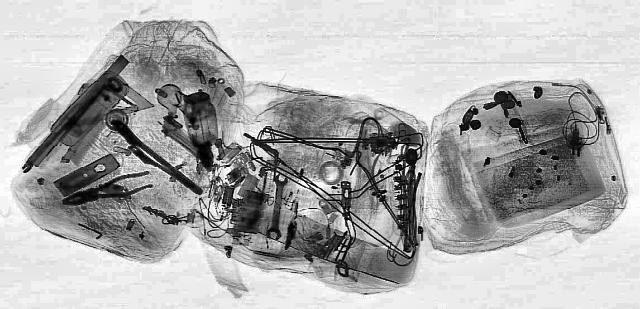Pliers: (49, 168, 167, 212)
Wrench: (264, 172, 288, 239)
